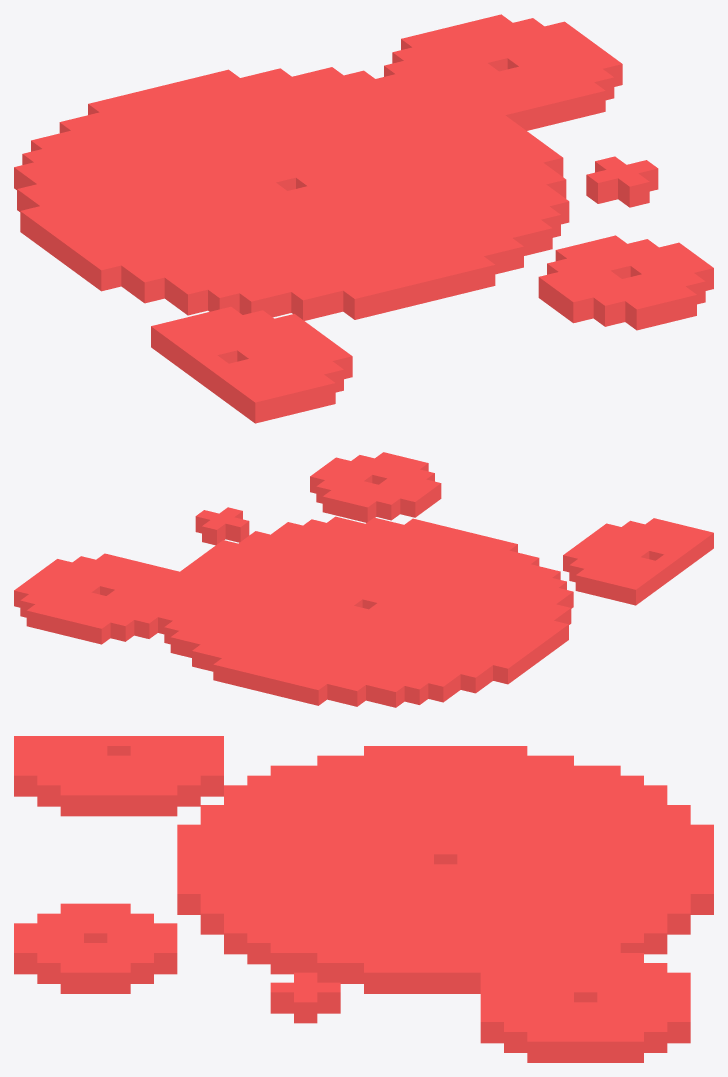
3 renders of one model, top to bottom at view 1: azimuth 30°, elevation 25°; view 2: azimuth 150°, elevation 25°; view 3: azimuth 270°, elevation 25°, orthographic. The views are drawn at different scales.
Visible parts, largest first — view 1: Object; view 2: Object; view 3: Object.
Boxes of the visible parts, x1=… form: Object: x1=14, y1=14, x2=713, y2=423; Object: x1=14, y1=452, x2=713, y2=707; Object: x1=14, y1=736, x2=713, y2=1062.
Size of the model in its own units: 31 by 1 by 30.
Materials: 1 (1 with a texture image).
